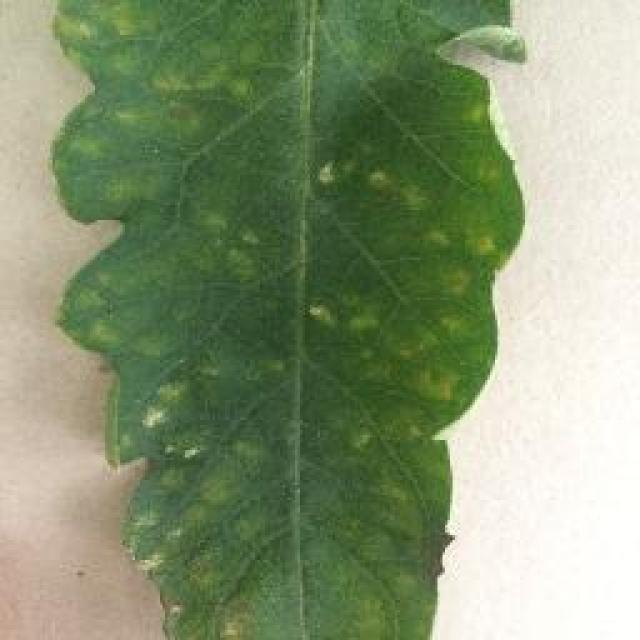Tomato Late Blight: (71, 177, 482, 538)
